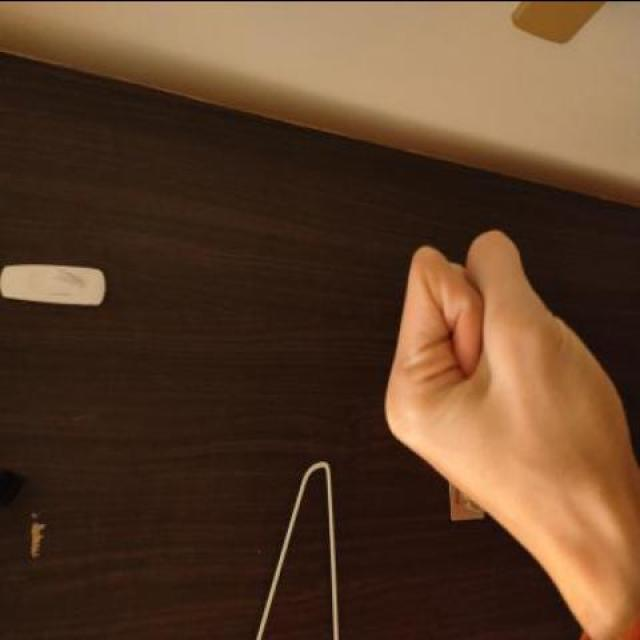fist: (360, 225, 640, 638)
